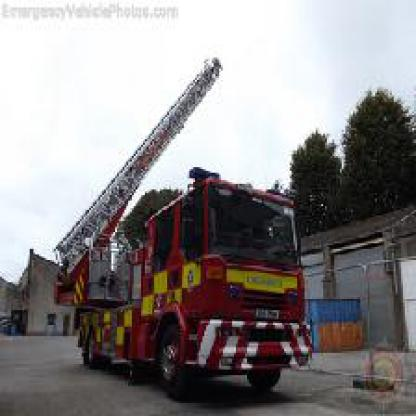emergency: (52, 52, 316, 403)
